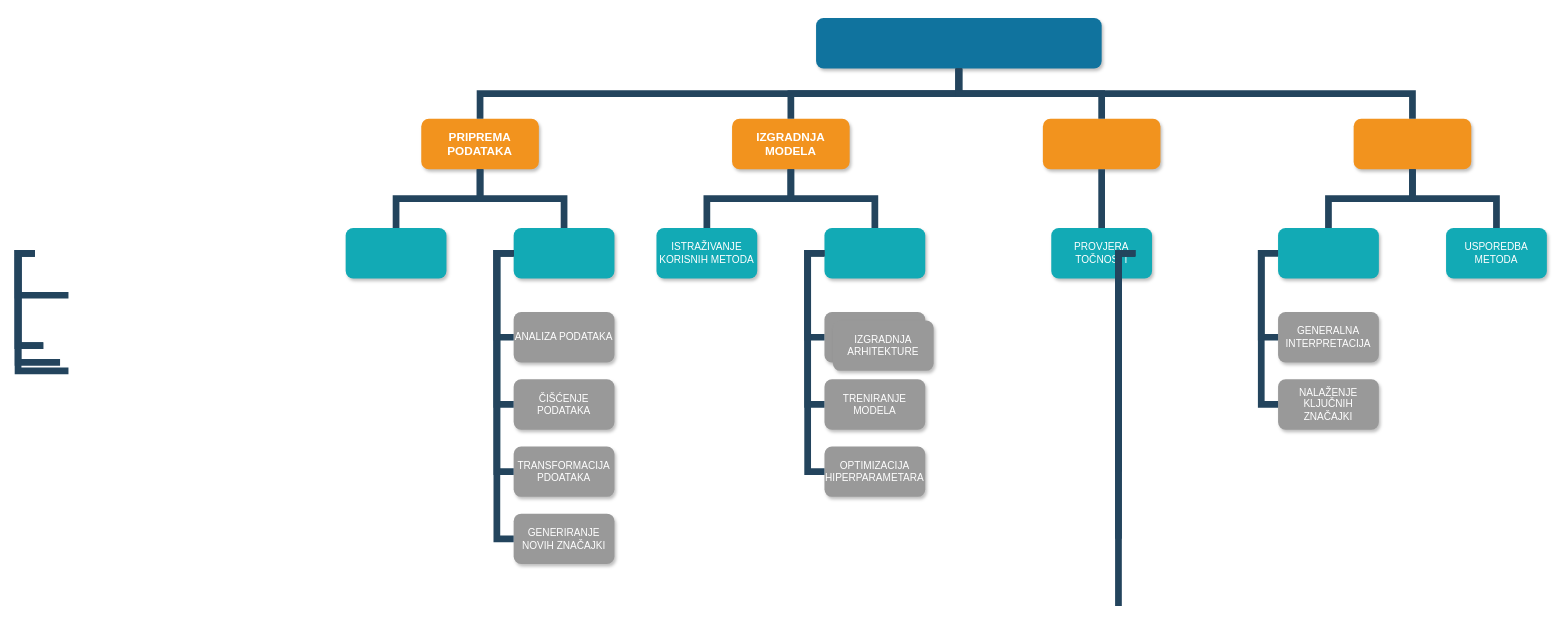
Image size: 1566x624. Some labels were removed from this diagram. Here are the shapes that lost their labels. From the top down, the centre of each, then its label:
At point 959,44: "PREDVIĐANJE SVOJSTAVA".
At point 1102,145: "EVALUACIJA MODELA".
At point 1413,145: "INTERPRETACIJA REZULTATA".
At point 396,254: "PRIKUPLJANJE PODATAKA".
At point 564,254: "OBRADA PODATAKA".
At point 875,254: "IMPLEMENTACIJA IZABRANIH METODA".
At point 1328,254: "DETALJAN UVID U ZAKLJUČKE".
